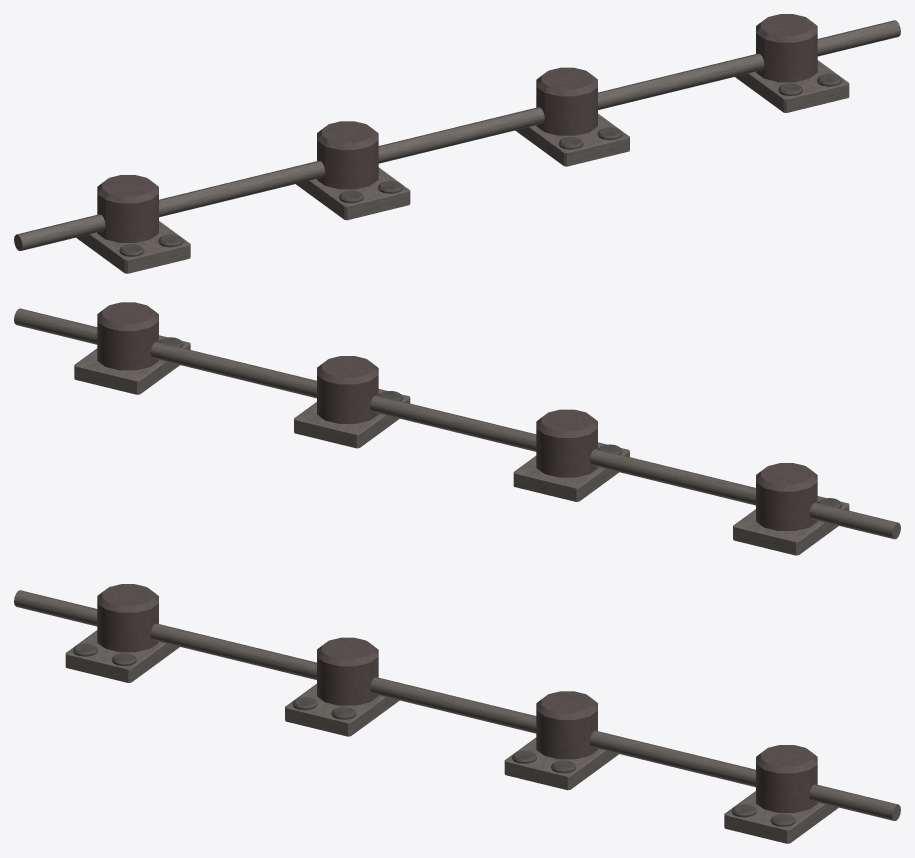
File: Rails_3.fbx
The picture shows the model from 3 angles, top to bottom: view 1: azimuth 30°, elevation 25°; view 2: azimuth 150°, elevation 25°; view 3: azimuth 330°, elevation 25°; orthographic projection.
Visible parts, largest first — view 1: Rails_3; view 2: Rails_3; view 3: Rails_3.
Part boxes in pixels (left/top/right/bottom): Rails_3: left=14, top=14, right=900, bottom=273; Rails_3: left=14, top=302, right=900, bottom=555; Rails_3: left=14, top=584, right=900, bottom=843.
Bounding box in the file's own units: 4 × 0.252 × 0.4173.
